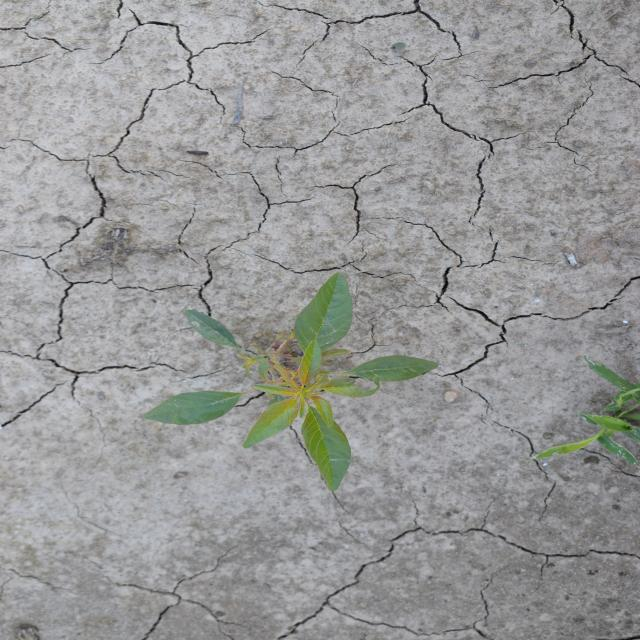Waterhemp: (135, 269, 442, 494)
